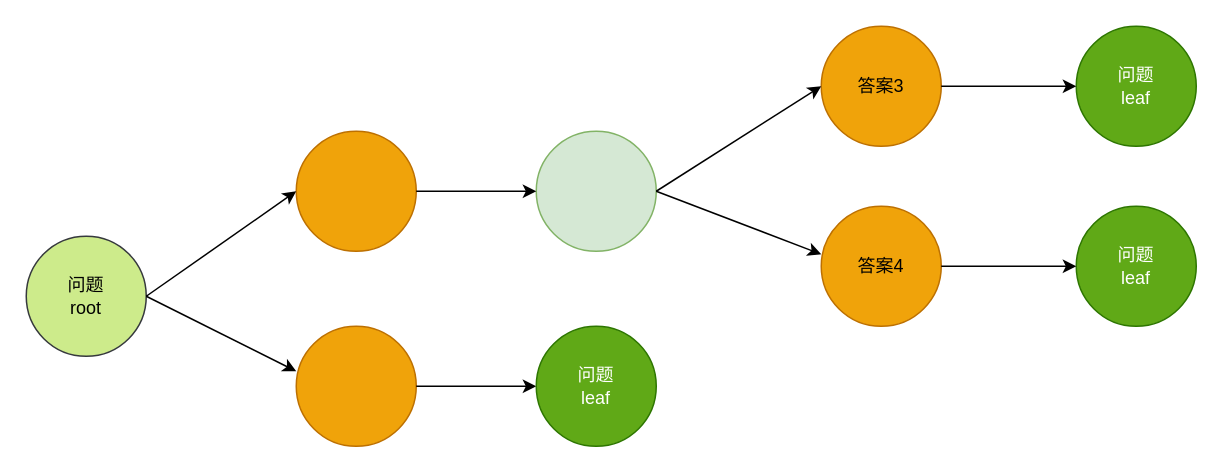
Image size: 1223x473. Some labels were removed from this diagram. Here are the shapes that lost their labels. From the top down, the centre of each, then its label:
point 355,190: 答案1
point 595,190: 问题 branch
point 355,385: 答案2
